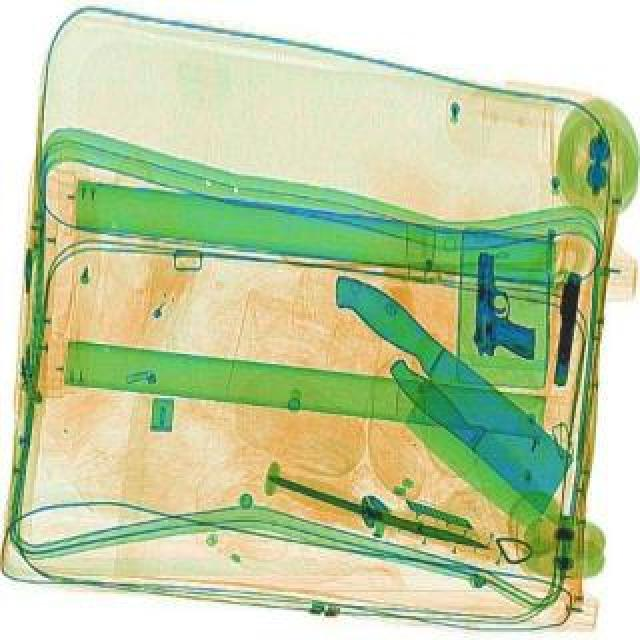gun: (472, 248, 540, 358), (548, 268, 584, 384)
knife: (286, 256, 594, 536), (380, 348, 578, 532), (266, 470, 492, 556)
